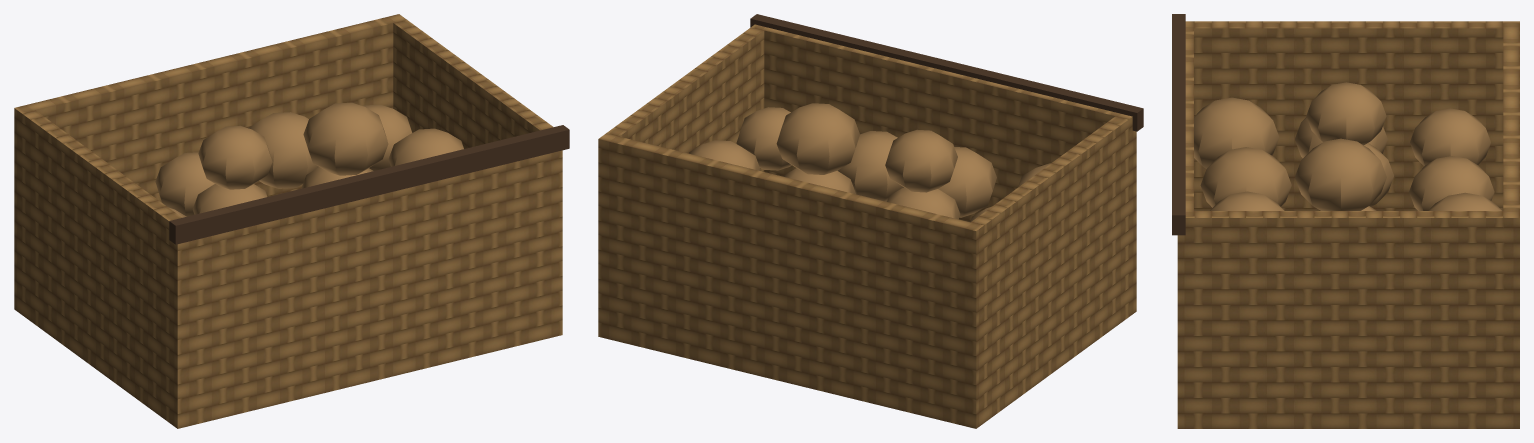
File: tpl_dispensa_cesto_patate.glb
3 views of the same model, side by side, from view 1: azimuth 30°, elevation 25°; view 2: azimuth 150°, elevation 25°; view 3: azimuth 270°, elevation 25° (orthographic). The views are drawn at different scales.
Visible parts, largest first — view 1: tpl_dispensa_cesto_patate; view 2: tpl_dispensa_cesto_patate; view 3: tpl_dispensa_cesto_patate.
Part boxes in pixels (x1,y1,x2,y2): tpl_dispensa_cesto_patate: (14,14,569,428); tpl_dispensa_cesto_patate: (598,14,1143,428); tpl_dispensa_cesto_patate: (1172,14,1519,428).
Size of the model in its own units: 0.348 by 0.1741 by 0.254.
Materials: 3 (1 with a texture image).
